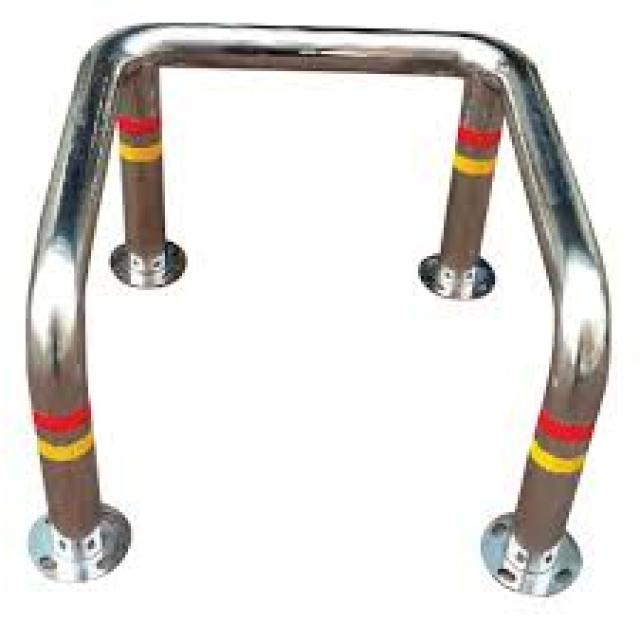bollard: (16, 6, 624, 602)
